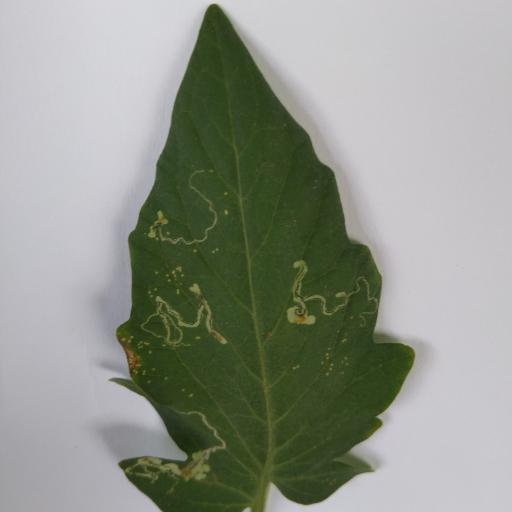disease_tomato: (113, 1, 413, 512)
